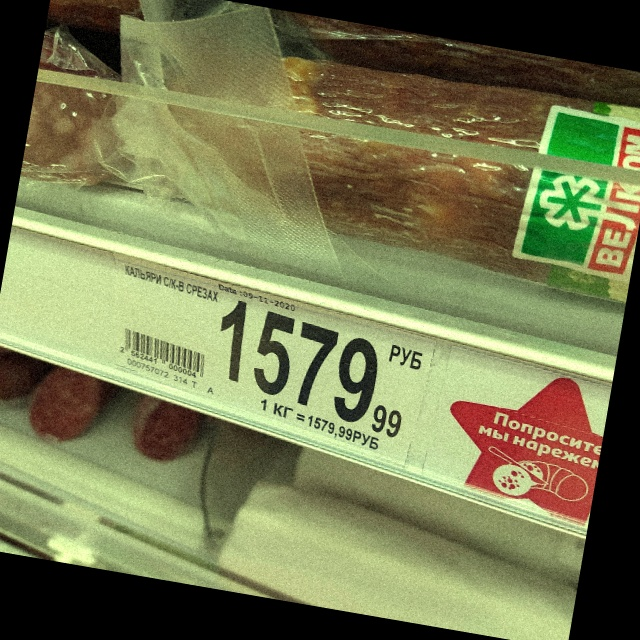barcode: (119, 328, 208, 380)
name: (120, 264, 222, 305)
price: (215, 298, 415, 442)
price_tag: (115, 258, 441, 474)
